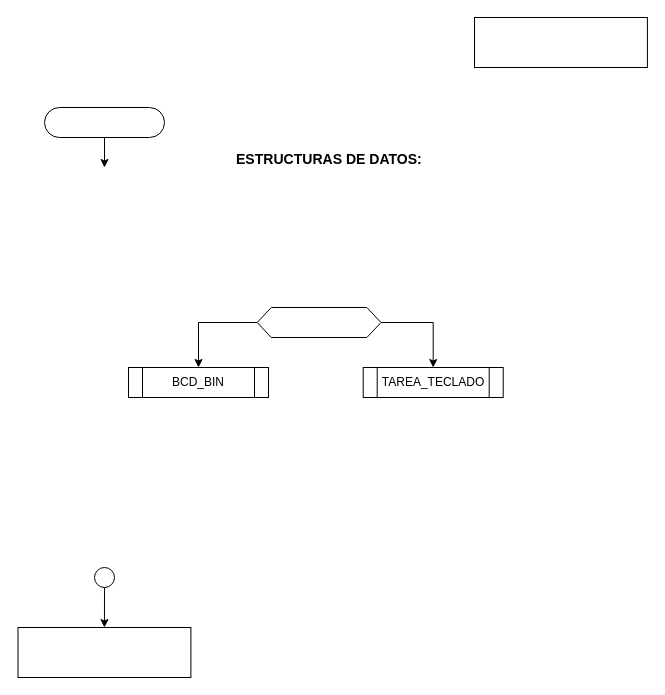
This 665x695 diagram has some shape labels left out. The shapes that lost their labels are listed below. From the top down, each one's centre as x and y in pixels, then its label:
the point at 104,122: CARGAR_LCD
the point at 318,322: ARRAY_OK = 0
